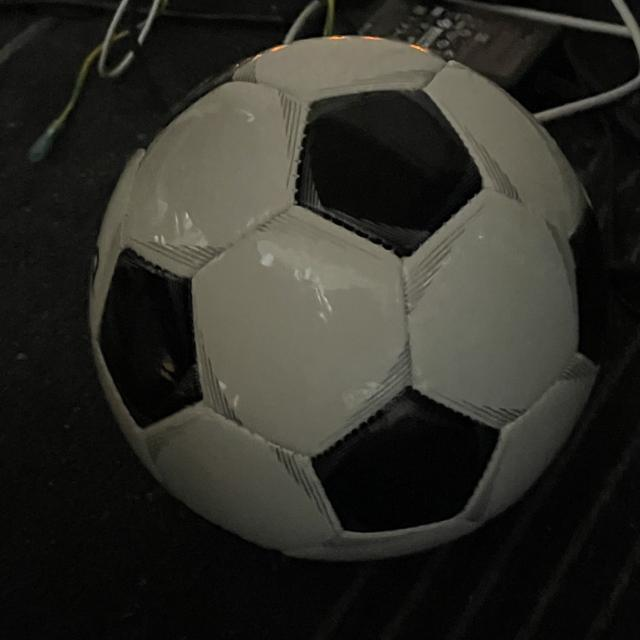ball: (86, 34, 608, 564)
